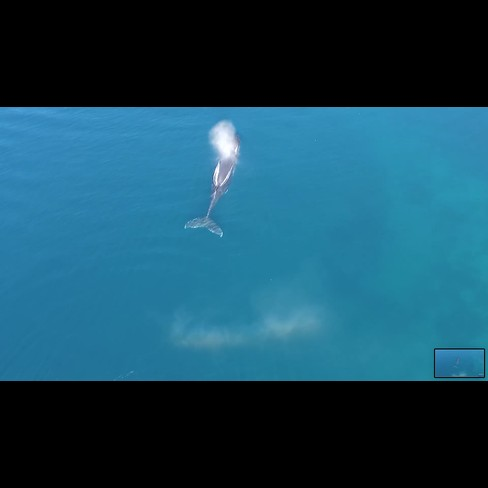hump: (175, 129, 246, 245)
